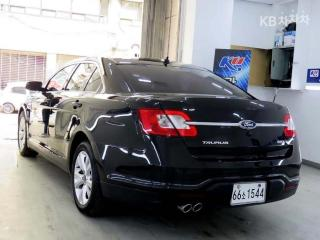1: (247, 188, 251, 199)
4: (255, 188, 260, 200), (260, 188, 264, 199)
5: (251, 188, 255, 198)
6: (237, 190, 242, 200), (233, 190, 237, 201)
plate: (224, 179, 271, 207)
소: (242, 191, 246, 200)
